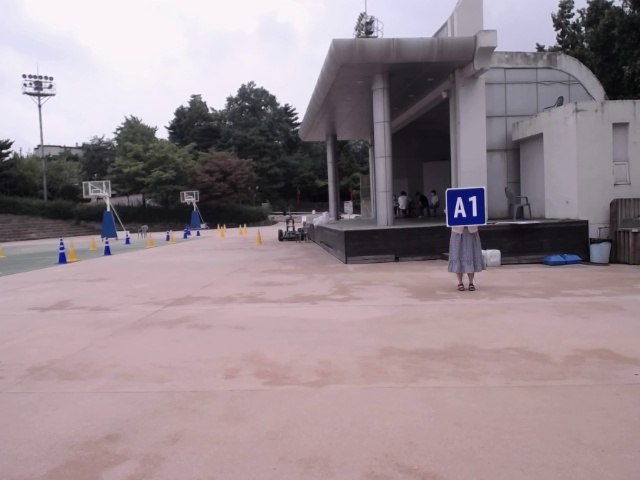delivery_a1: (446, 187, 487, 227)
